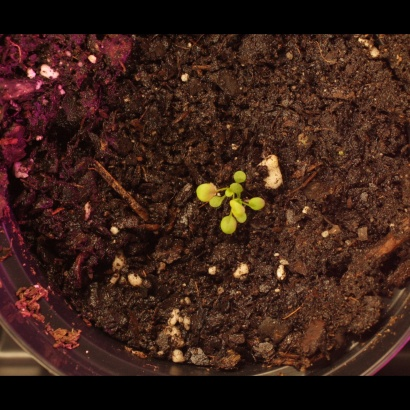leaf: (249, 189, 272, 212), (230, 159, 253, 182), (193, 180, 216, 203), (205, 192, 228, 215), (216, 215, 239, 238), (226, 198, 249, 221), (225, 177, 248, 200)
